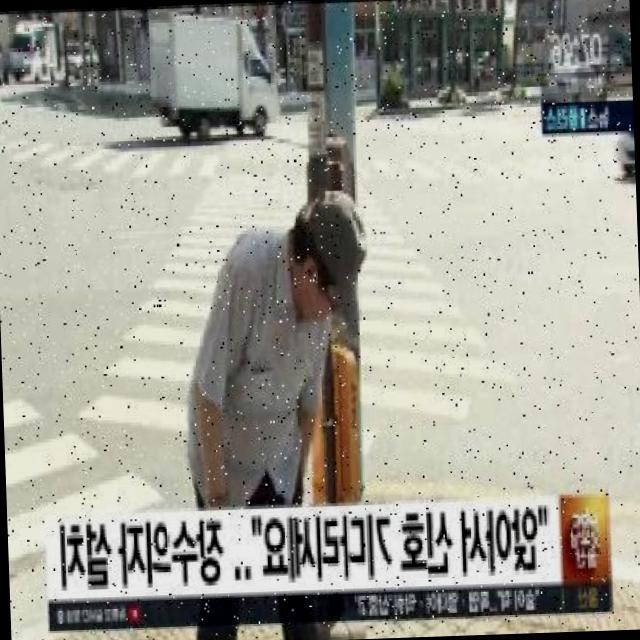Person: (178, 189, 376, 506)
